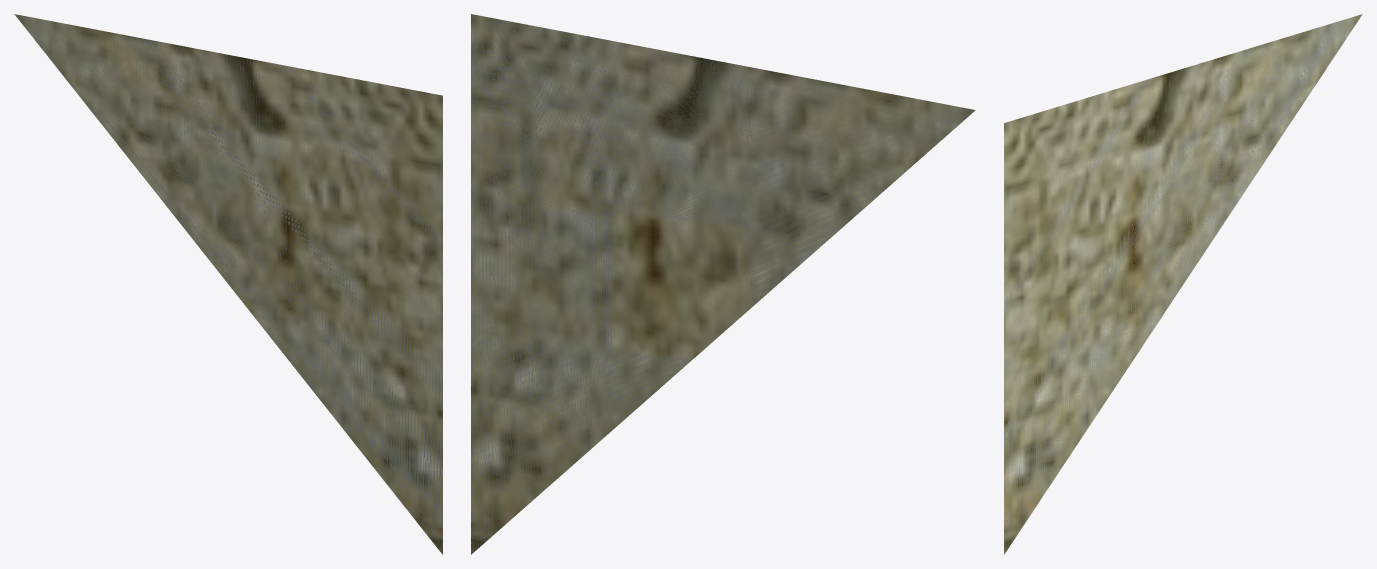
The model's file is 西庸城堡694.dae.
3 renders of one model, left to right at view 1: azimuth 30°, elevation 25°; view 2: azimuth 210°, elevation 25°; view 3: azimuth 270°, elevation 25°, orthographic. The views are drawn at different scales.
Parts seen in each view (by area): view 1: SketchUp; view 2: SketchUp; view 3: SketchUp.
Boxes of the visible parts, box(x1,y1,x2,y2) form: SketchUp: box(14, 14, 442, 554); SketchUp: box(471, 14, 975, 554); SketchUp: box(1004, 14, 1362, 554).
Size of the model in its own units: 94.73 by 132 by 175.
